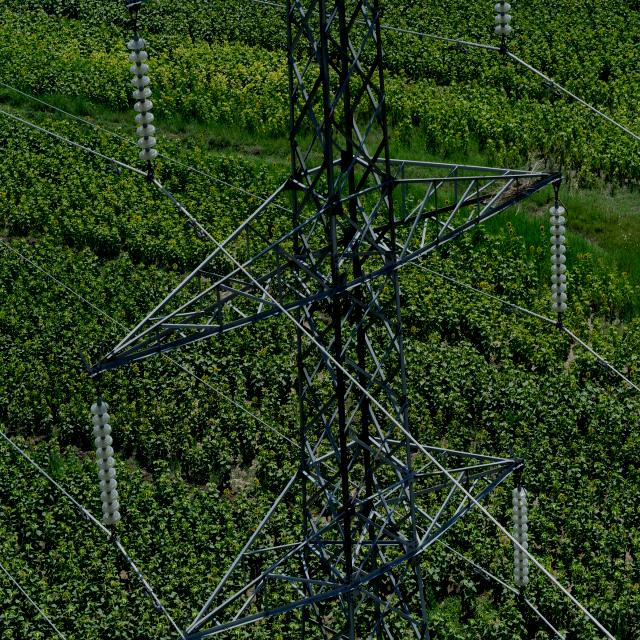voltage_line: (106, 2, 519, 628)
